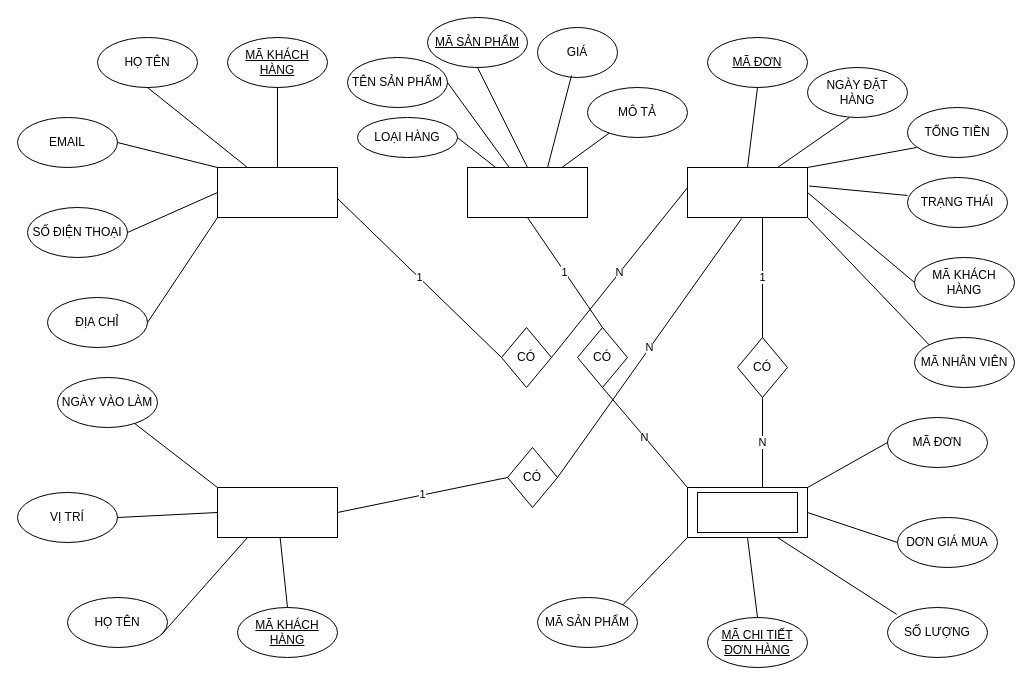
The diagram is 1032 pixels wide and 685 high, and some of its shapes have lost their labels. The centre of each missing label's shape, as x and y in pixels:
"CUSTOMER" goes at (277,192).
"ORDER" goes at (747,192).
"ORDER DETAIL" goes at (747,512).
"PRODUCT" goes at (527,192).
"STAFF" goes at (277,512).
